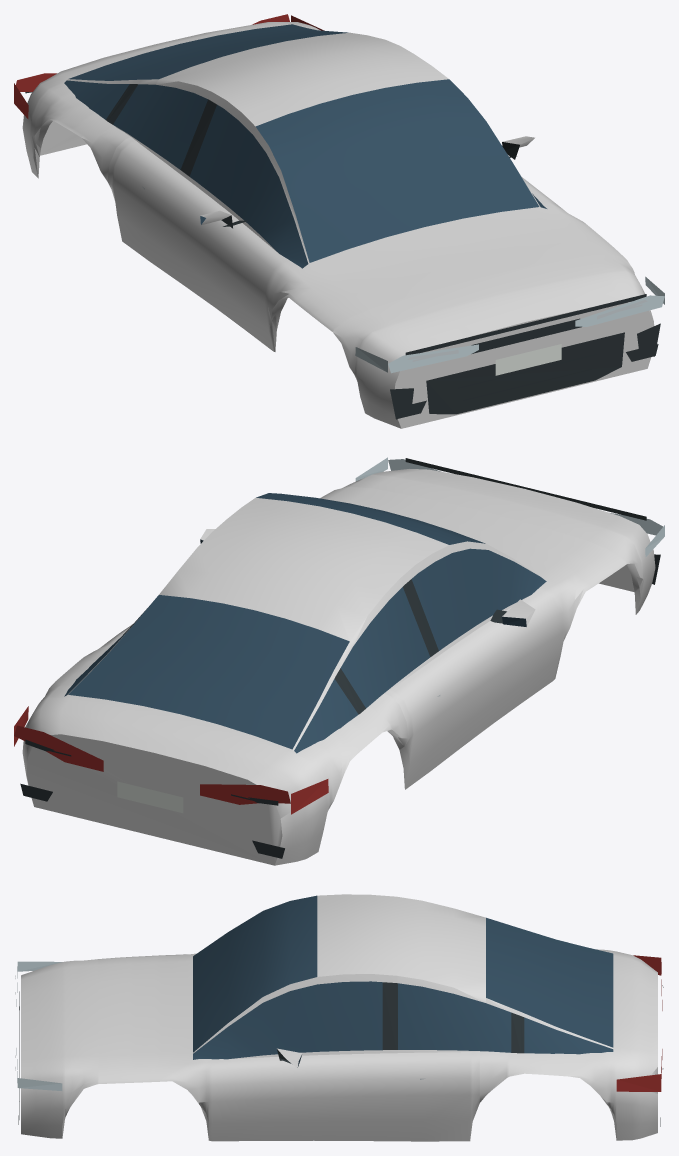
The model's file is veh_civic-lod1.glb.
The picture shows the model from 3 angles, top to bottom: view 1: azimuth 30°, elevation 25°; view 2: azimuth 150°, elevation 25°; view 3: azimuth 270°, elevation 25°; orthographic projection. The views are drawn at different scales.
Visible parts, largest first — view 1: paint, glass, trim, head, plate, tail; view 2: paint, glass, tail, trim, head, plate; view 3: paint, glass, trim, tail, head.
Boxes of the visible parts, x1,y1,x2,y2 form: paint: (22, 22, 654, 428); glass: (64, 24, 546, 268); trim: (25, 84, 660, 419); head: (355, 276, 664, 373); plate: (495, 344, 561, 375); tail: (14, 14, 324, 118); paint: (22, 469, 655, 865); glass: (64, 493, 546, 753); tail: (14, 706, 328, 814); trim: (20, 458, 660, 858); head: (355, 457, 664, 556); plate: (117, 781, 183, 813); paint: (21, 894, 657, 1141); glass: (193, 895, 613, 1067); trim: (18, 982, 663, 1126); tail: (616, 955, 662, 1091); head: (16, 961, 62, 1090).
Bounding box in the file's own units: 1.52 × 0.795 × 3.02.
